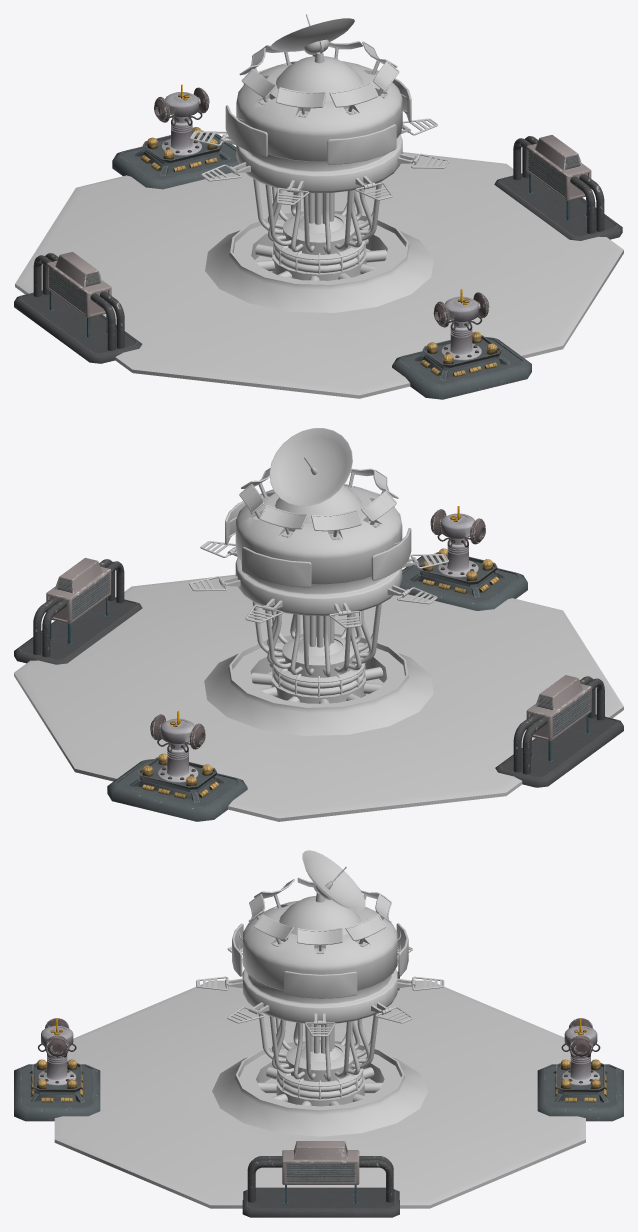
File: FactoryMid.fbx
The picture shows the model from 3 angles, top to bottom: view 1: azimuth 30°, elevation 25°; view 2: azimuth 150°, elevation 25°; view 3: azimuth 270°, elevation 25°; orthographic projection. The views are drawn at different scales.
Visible parts, largest first — view 1: Ground, UpperBody, Pool, Platform2_1, Platform1_1, Platform2, Platform1, Antenna_1, Screens, Suspender, bracket, pipesBody (+9 smaller); view 2: Ground, UpperBody, Pool, Platform2_1, Platform1, Platform2, Platform1_1, Antenna_1, Screens, Suspender, bracket, pipesBody (+9 smaller); view 3: Ground, UpperBody, Pool, Platform2, Platform1_1, Platform1, Antenna_1, Screens, bracket, Suspender, pipesBody, Groundpipes (+7 smaller).
Boxes of the visible parts, <box> form: Ground: <box>15,152,623,398</box>; UpperBody: <box>236,61,402,193</box>; Pool: <box>205,210,433,312</box>; Platform2_1: <box>14,252,142,363</box>; Platform1_1: <box>392,289,531,399</box>; Platform2: <box>494,135,622,240</box>; Platform1: <box>112,84,239,189</box>; Antenna_1: <box>270,14,363,101</box>; Screens: <box>225,67,411,164</box>; Suspender: <box>189,118,449,205</box>; bracket: <box>273,213,365,273</box>; pipesBody: <box>272,244,366,280</box>; Ground: <box>14,574,623,821</box>; UpperBody: <box>235,484,402,615</box>; Pool: <box>204,632,433,735</box>; Platform2_1: <box>495,675,623,787</box>; Platform1: <box>107,711,247,821</box>; Platform2: <box>14,558,142,664</box>; Platform1_1: <box>399,506,527,610</box>; Antenna_1: <box>269,428,362,523</box>; Screens: <box>225,489,411,587</box>; Suspender: <box>189,541,448,627</box>; bracket: <box>272,636,365,696</box>; pipesBody: <box>271,667,365,703</box>; Ground: <box>54,980,585,1208</box>; UpperBody: <box>243,900,397,1024</box>; Pool: <box>212,1039,428,1136</box>; Platform2: <box>242,1141,399,1217</box>; Platform1_1: <box>14,1018,100,1121</box>; Platform1: <box>537,1018,623,1121</box>; Antenna_1: <box>279,850,365,935</box>; Screens: <box>232,923,408,998</box>; bracket: <box>277,1041,363,1099</box>; Suspender: <box>196,946,444,1036</box>; pipesBody: <box>276,1072,364,1106</box>; Groundpipes: <box>257,1067,382,1105</box>.
Size of the model in its own units: 501 by 230 by 531.
